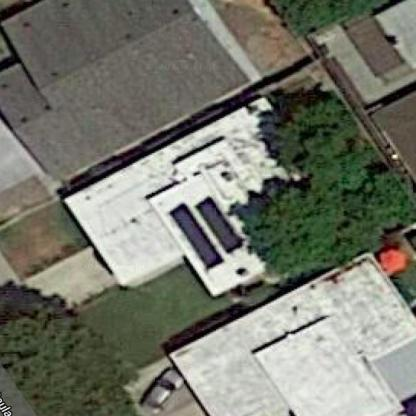car: (137, 359, 188, 414)
solar_panel: (166, 191, 241, 280)
